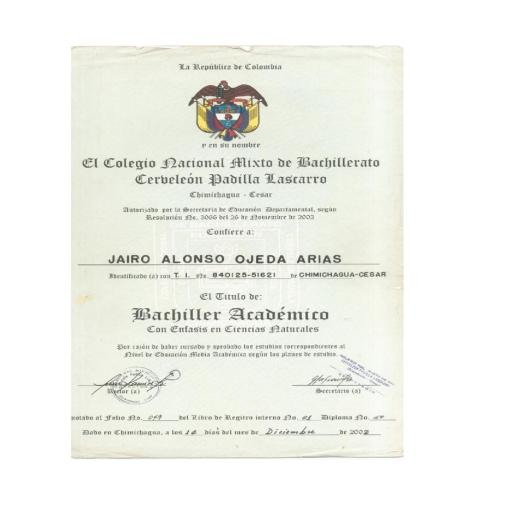bachillerato: (125, 300, 341, 330)
diploma: (70, 46, 404, 458), (72, 47, 402, 457)
escudo: (179, 75, 284, 147)
firma: (80, 358, 198, 404), (286, 364, 385, 401)
institucion: (78, 152, 391, 190)
nombre: (90, 246, 351, 270)
